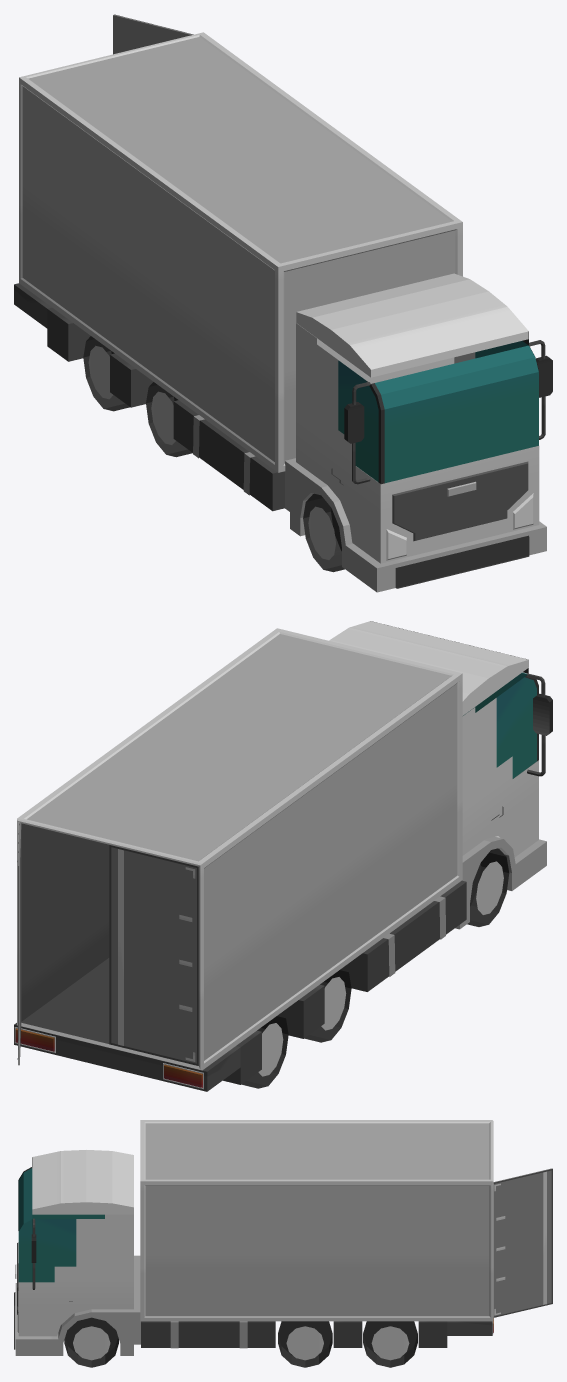
The model's file is 工程车08.gltf.
The picture shows the model from 3 angles, top to bottom: view 1: azimuth 30°, elevation 25°; view 2: azimuth 150°, elevation 25°; view 3: azimuth 270°, elevation 25°; orthographic projection. The views are drawn at different scales.
Visible parts, largest first — view 1: 工程车08; view 2: 工程车08; view 3: 工程车08.
Part boxes in pixels (left/top/right/bottom): 工程车08: left=14, top=14, right=552, bottom=592; 工程车08: left=14, top=621, right=552, bottom=1091; 工程车08: left=14, top=1120, right=552, bottom=1367.
Size of the model in its own units: 1.82 by 2.37 by 6.1.
1 material, 1 textured.
